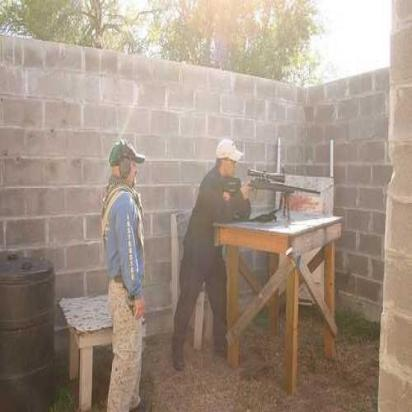Gun: (221, 162, 325, 226)
